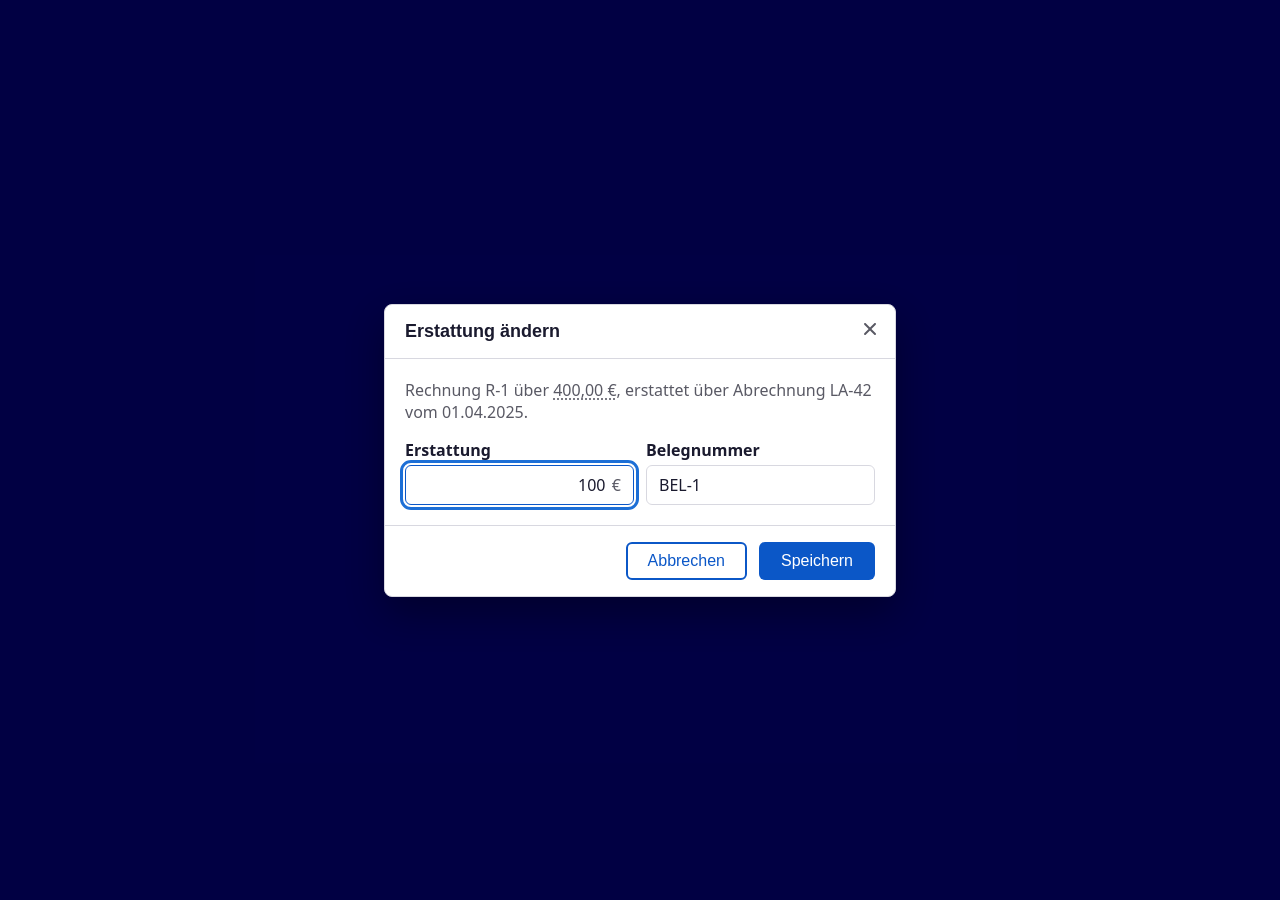
Test: AllocationDialog › refuses more than the invoice carries instead of sending it
Replace the text in the field labelled "Erstattung" with "400,01" at (512, 484), box [418,474,606,496]
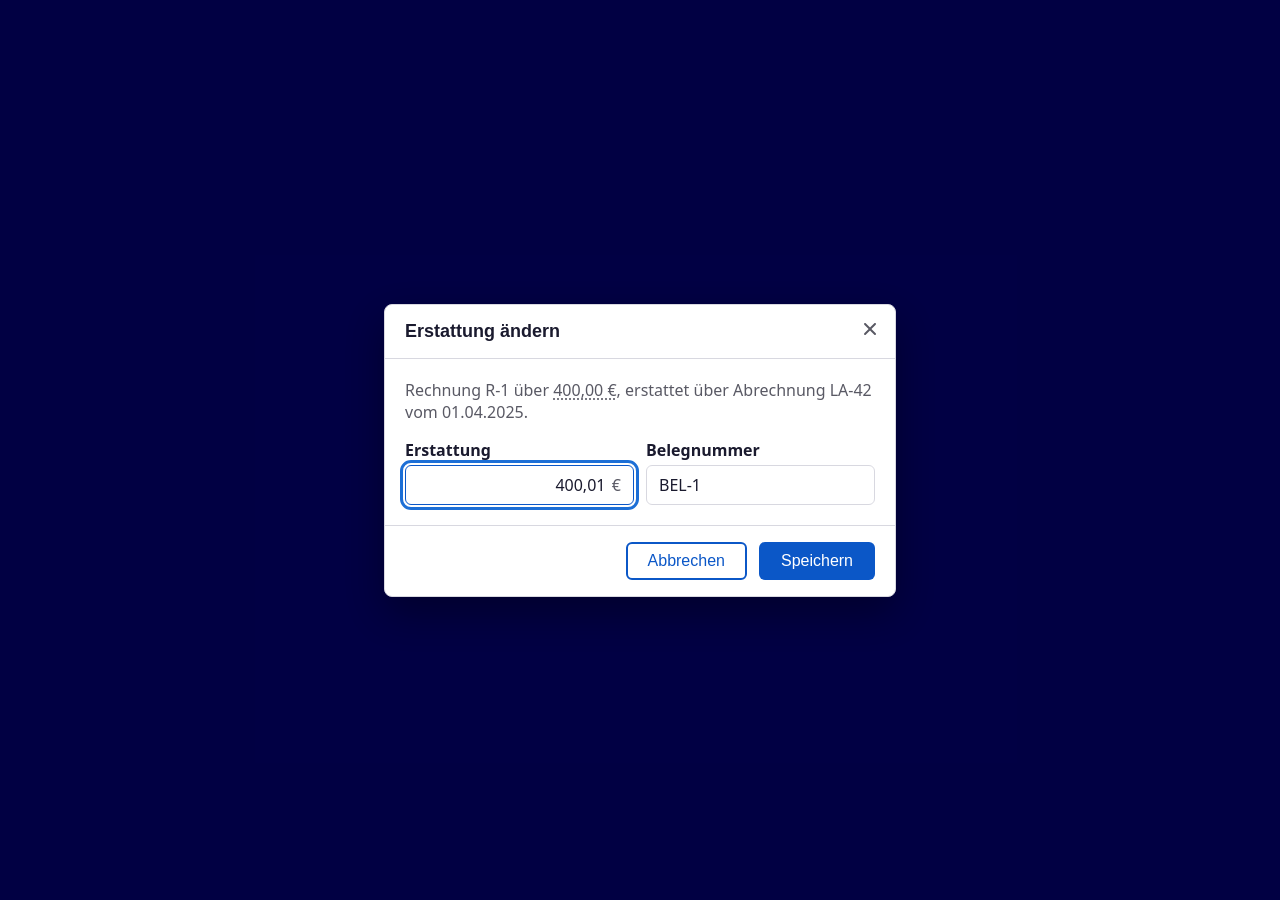
Click the button "Speichern".
click(817, 560)  # box [759,542,875,580]
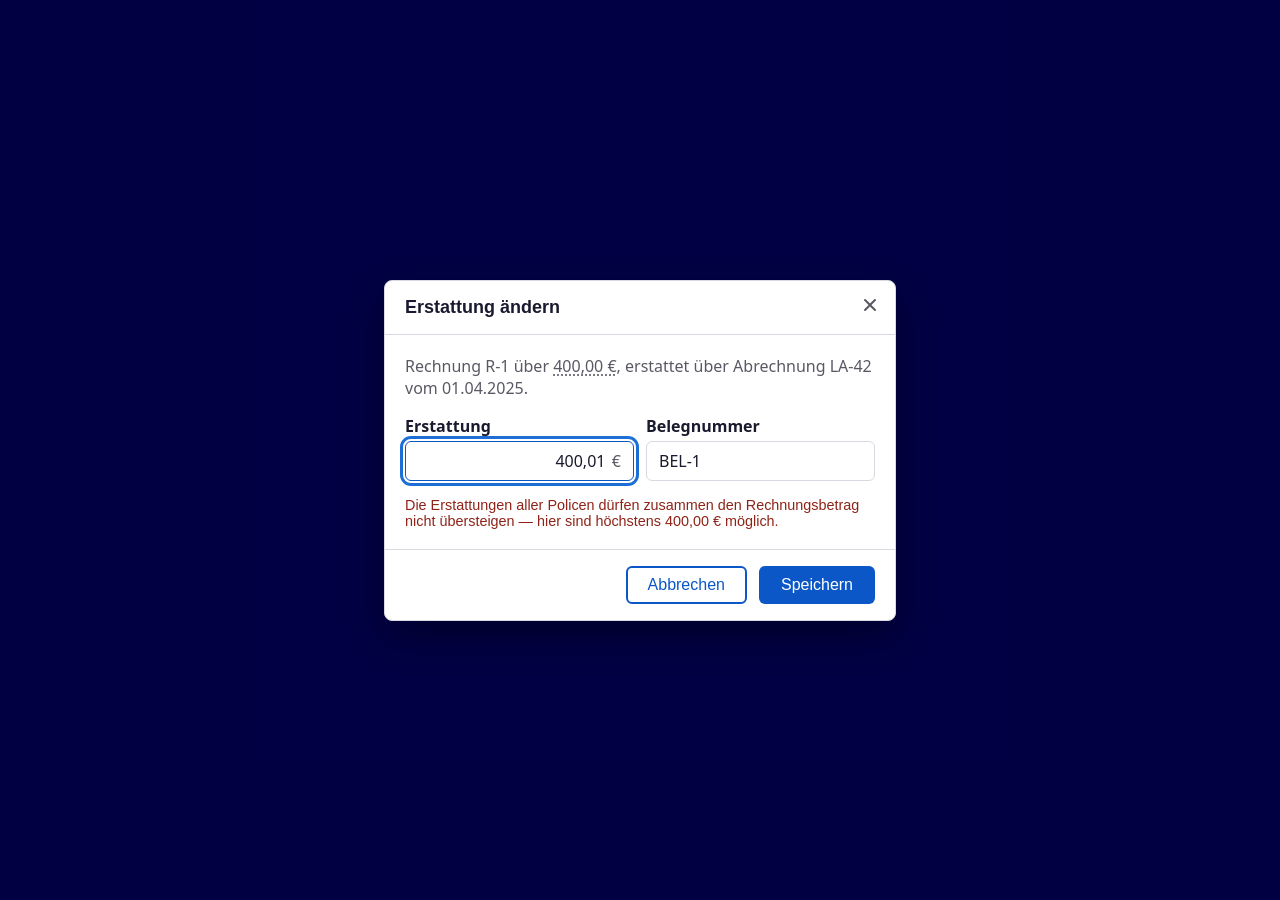
Expected: the message shows "400,00", [405,496,859,528]
